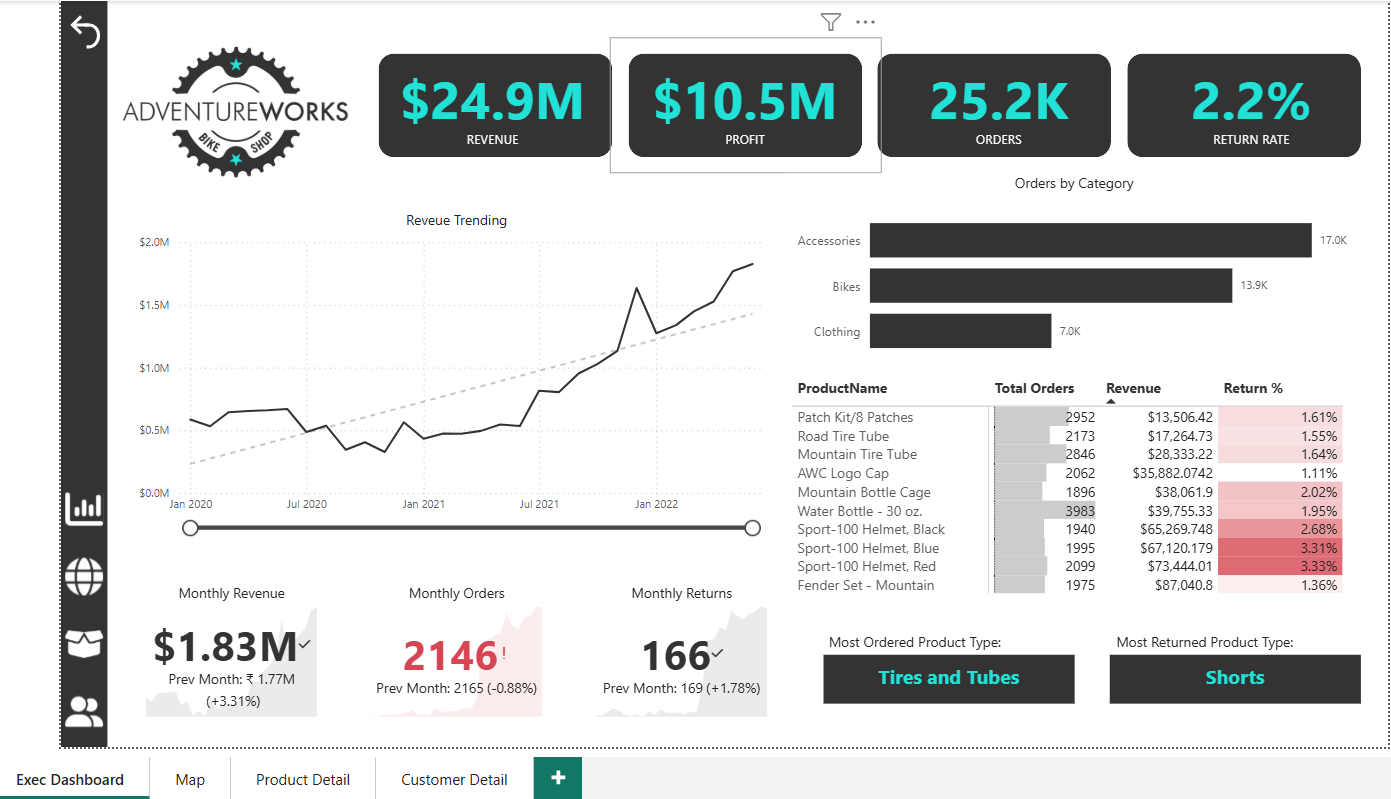

Layout of this report page (visuals, bound fields, positions):
{"tool":"powerbi","page":{"name":"Exec Dashboard","canvas":[1280,720],"ordinal":0},"visuals":[{"type":"shape","box":[306.4,50.7,225.6,100.1],"z":0,"group":"g1"},{"type":"image","title":"AW Logo","box":[31.4,0,275.1,214.7],"z":0},{"type":"shape","title":"Left Nav Background","box":[0,0,45,720],"z":1000},{"type":"shape","box":[547.3,50.7,225.6,100.1],"z":1000,"group":"g1"},{"type":"shape","box":[788.2,50.7,225.6,100.1],"z":2000,"group":"g1"},{"type":"group","id":"g1","title":"KPI Background","box":[306.4,50.7,948.3,100.1],"z":2000},{"type":"shape","box":[1029.1,50.7,225.6,100.1],"z":3000,"group":"g1"},{"type":"card","fields":{"Values":["Measure Table.Total Revenue"]},"box":[285.9,35,261.8,131.5],"z":3000},{"type":"card","fields":{"Values":["Measure Table.Total Profit"]},"box":[530,35,261.8,131.5],"z":4000},{"type":"card","fields":{"Values":["Measure Table.Total Orders"]},"box":[774.1,35,261.8,131.5],"z":5000},{"type":"card","fields":{"Values":["Measure Table.Return Rate"]},"box":[1018.2,35,261.8,131.5],"z":6000},{"type":"lineChart","title":"Reveue Trending","fields":{"Y":["Measure Table.Total Revenue"],"Category":["Calendar Lookup.Year","Calendar Lookup.Start of Quarter","Calendar Lookup.Start of Month"]},"box":[70,201.2,623.8,317.5],"z":7000},{"type":"kpi","title":"Monthly Revenue","fields":{"TrendLine":["Calendar Lookup.Start of Month"],"Indicator":["Measure Table.Total Revenue"],"Goal":["Measure Table.Previous Month Revenue"]},"box":[77.5,562.5,175,133.8],"z":8000},{"type":"kpi","title":"Monthly Orders","fields":{"TrendLine":["Calendar Lookup.Start of Month"],"Indicator":["Measure Table.Total Orders"],"Goal":["Measure Table.Previous Month Orders"]},"box":[294.4,562.5,175,133.8],"z":9000},{"type":"kpi","title":"Monthly Returns","fields":{"TrendLine":["Calendar Lookup.Start of Month"],"Indicator":["Measure Table.Total Returns"],"Goal":["Measure Table.Previous Month Returns"]},"box":[511.2,562.5,175,133.8],"z":10000},{"type":"clusteredBarChart","title":"Orders by Category","fields":{"Category":["Product Categories Lookup.CategoryName"],"Y":["Measure Table.Total Orders"]},"box":[700.9,166.5,553.8,193],"z":11000},{"type":"pivotTable","fields":{"Rows":["Product Lookup.ProductName"],"Values":["Measure Table.Total Orders","Measure Table.Total Revenue","Measure Table.Return Rate"]},"box":[700.9,359.5,553.8,225.6],"z":12000},{"type":"card","fields":{"Values":["Min(Product Subcategories Lookup.SubcategoryName)"]},"box":[735.9,631,242.5,47.1],"z":13000},{"type":"textbox","box":[736.2,605,182.5,50],"z":14000},{"type":"card","fields":{"Values":["Min(Product Subcategories Lookup.SubcategoryName)"]},"box":[1012.2,631,242.5,47.1],"z":15000},{"type":"textbox","box":[1013.8,605,186.2,50],"z":16000},{"type":"actionButton","box":[2.5,8.8,57.5,42.5],"z":17000},{"type":"actionButton","box":[0,468.1,60.3,44.6],"z":18000},{"type":"actionButton","box":[0,533.2,60.3,44.6],"z":19000},{"type":"actionButton","box":[0,598.4,60.3,44.6],"z":20000},{"type":"actionButton","box":[0,663.5,60.3,44.6],"z":21000}]}

Visuals, with their boxes on the page's 1280x720 design canvas (x1, y1, x2, y2). These are canvas units, not pixel positions in the 1391x799 screenshot, which may show the page scaled, cropped or inside an application window:
shape: {"x1": 306, "y1": 51, "x2": 532, "y2": 151}
"AW Logo" image: {"x1": 31, "y1": 0, "x2": 306, "y2": 215}
"Left Nav Background" shape: {"x1": 0, "y1": 0, "x2": 45, "y2": 720}
shape: {"x1": 547, "y1": 51, "x2": 773, "y2": 151}
shape: {"x1": 788, "y1": 51, "x2": 1014, "y2": 151}
"KPI Background" group: {"x1": 306, "y1": 51, "x2": 1255, "y2": 151}
shape: {"x1": 1029, "y1": 51, "x2": 1255, "y2": 151}
card - Measure Table.Total Revenue: {"x1": 286, "y1": 35, "x2": 548, "y2": 166}
card - Measure Table.Total Profit: {"x1": 530, "y1": 35, "x2": 792, "y2": 166}
card - Measure Table.Total Orders: {"x1": 774, "y1": 35, "x2": 1036, "y2": 166}
card - Measure Table.Return Rate: {"x1": 1018, "y1": 35, "x2": 1280, "y2": 166}
"Reveue Trending" lineChart: {"x1": 70, "y1": 201, "x2": 694, "y2": 519}
"Monthly Revenue" kpi: {"x1": 78, "y1": 562, "x2": 252, "y2": 696}
"Monthly Orders" kpi: {"x1": 294, "y1": 562, "x2": 469, "y2": 696}
"Monthly Returns" kpi: {"x1": 511, "y1": 562, "x2": 686, "y2": 696}
"Orders by Category" clusteredBarChart: {"x1": 701, "y1": 166, "x2": 1255, "y2": 360}
pivotTable - Product Lookup.ProductName x Measure Table.Total Orders: {"x1": 701, "y1": 360, "x2": 1255, "y2": 585}
card - Min(Product Subcategories Lookup.SubcategoryName): {"x1": 736, "y1": 631, "x2": 978, "y2": 678}
textbox: {"x1": 736, "y1": 605, "x2": 919, "y2": 655}
card - Min(Product Subcategories Lookup.SubcategoryName): {"x1": 1012, "y1": 631, "x2": 1255, "y2": 678}
textbox: {"x1": 1014, "y1": 605, "x2": 1200, "y2": 655}
actionButton: {"x1": 2, "y1": 9, "x2": 60, "y2": 51}
actionButton: {"x1": 0, "y1": 468, "x2": 60, "y2": 513}
actionButton: {"x1": 0, "y1": 533, "x2": 60, "y2": 578}
actionButton: {"x1": 0, "y1": 598, "x2": 60, "y2": 643}
actionButton: {"x1": 0, "y1": 664, "x2": 60, "y2": 708}
